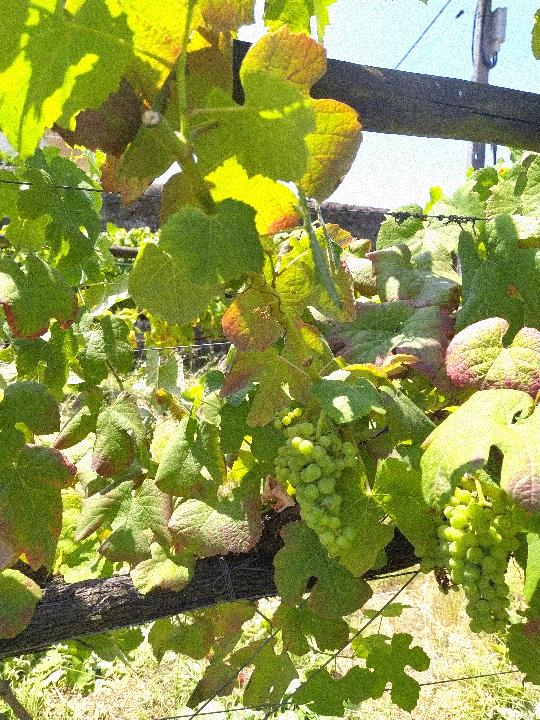grape: (441, 478, 523, 638), (271, 406, 359, 554)
